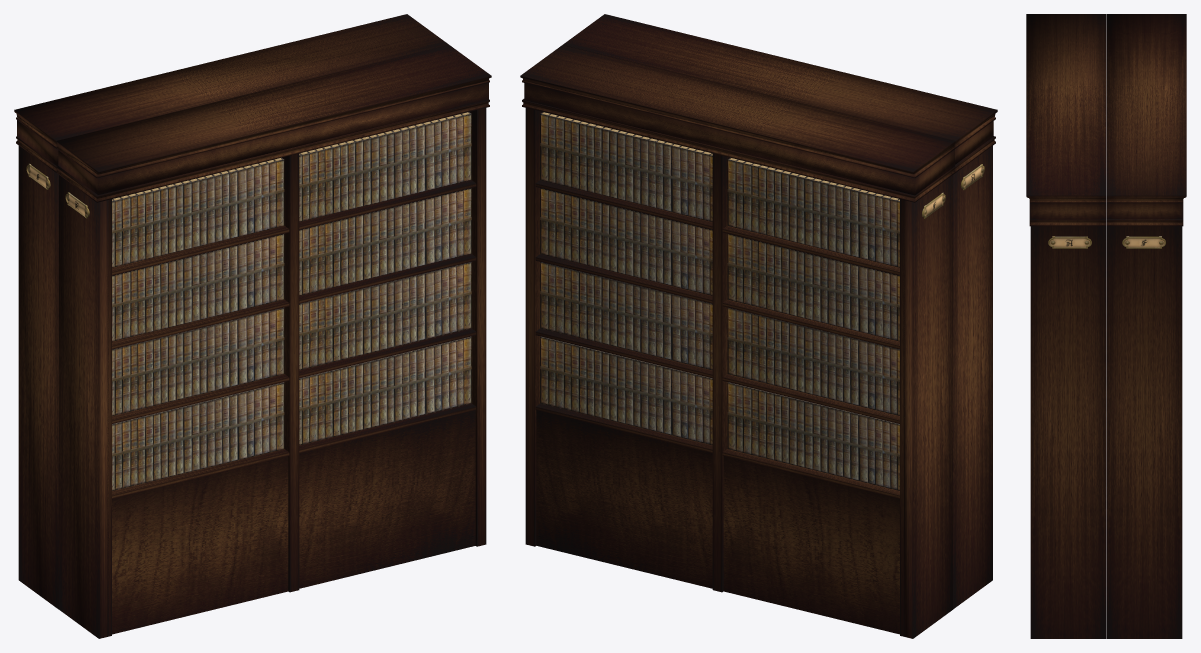
The model's file is SM_SHelf.fbx.
3 views of the same model, side by side, from view 1: azimuth 30°, elevation 25°; view 2: azimuth 150°, elevation 25°; view 3: azimuth 270°, elevation 25° (orthographic). The views are drawn at different scales.
Visible parts, largest first — view 1: SM_SHelf; view 2: SM_SHelf; view 3: SM_SHelf.
Boxes of the visible parts, box(x1,y1,x2,y2) form: SM_SHelf: box(14, 14, 491, 638); SM_SHelf: box(520, 14, 997, 638); SM_SHelf: box(1026, 14, 1186, 638).
Bounding box in the file's own units: 246 × 281 × 91.73.
